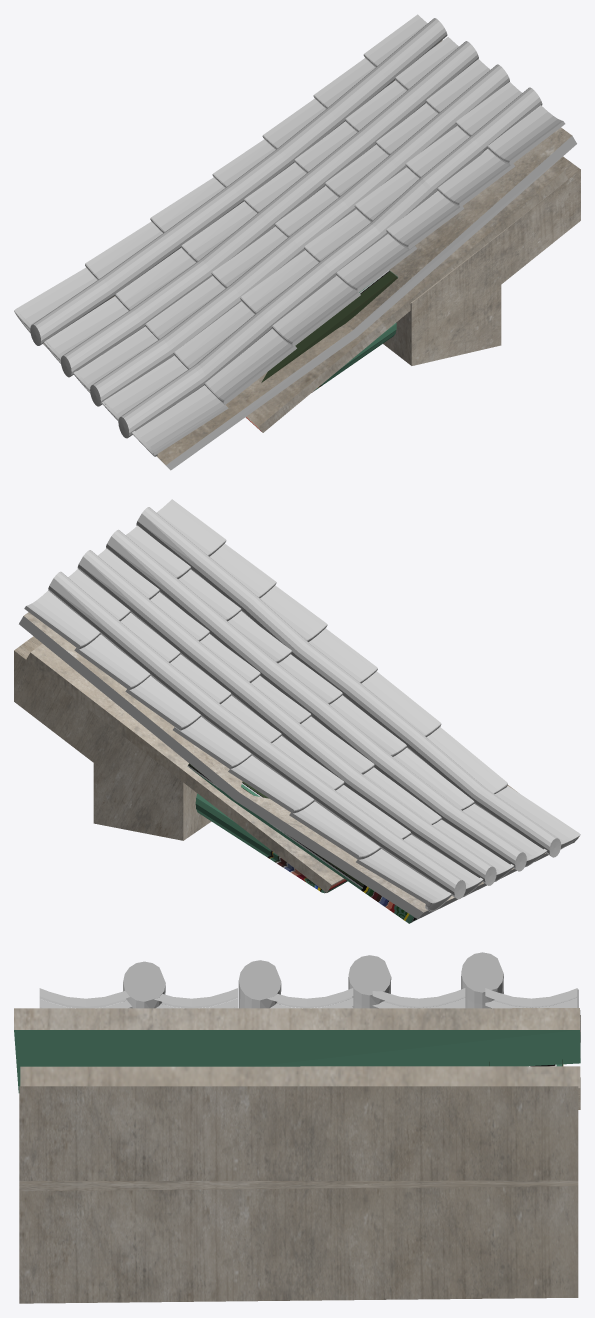
Rendered from SM_Roof_6.fbx.
3 views of the same model, one above another, from view 1: azimuth 30°, elevation 25°; view 2: azimuth 150°, elevation 25°; view 3: azimuth 270°, elevation 25° (orthographic). The views are drawn at different scales.
Visible parts, largest first — view 1: SM_Roof_6; view 2: SM_Roof_6; view 3: SM_Roof_6.
Part boxes in pixels (left/top/right/bottom): SM_Roof_6: left=14, top=14, right=580, bottom=470; SM_Roof_6: left=14, top=499, right=580, bottom=923; SM_Roof_6: left=14, top=952, right=580, bottom=1303.
Size of the model in its own units: 432 by 271 by 263.
